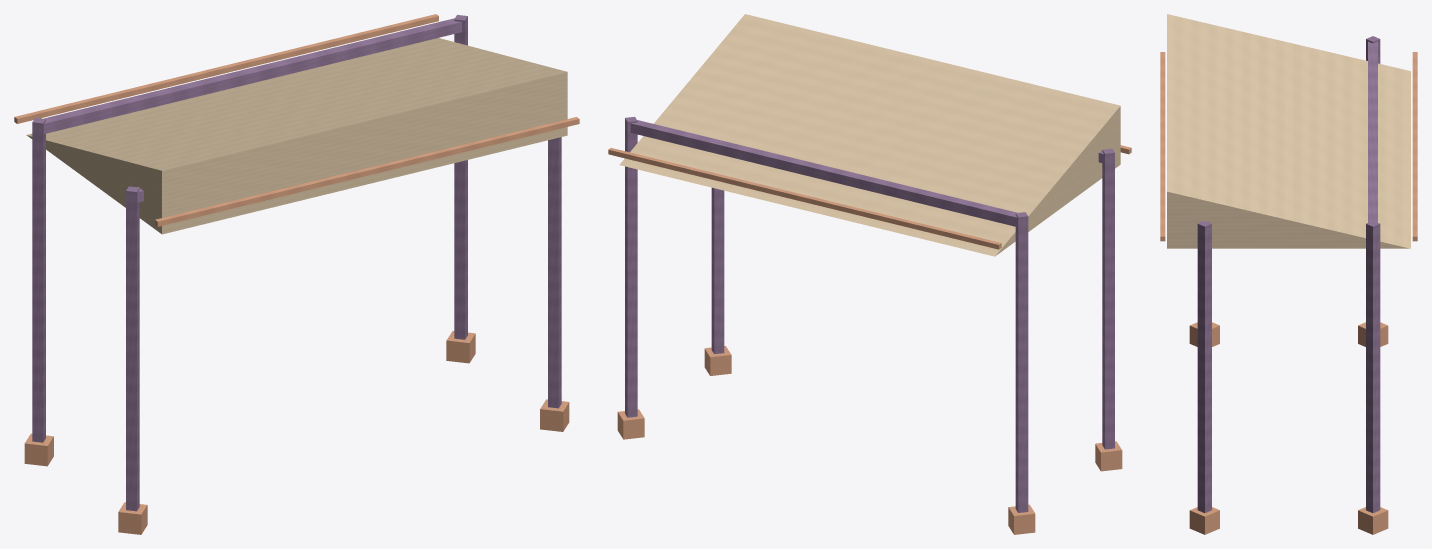
File: atlas100-s081-a08.glb
The picture shows the model from 3 angles, left to right: view 1: azimuth 30°, elevation 25°; view 2: azimuth 150°, elevation 25°; view 3: azimuth 270°, elevation 25°; orthographic projection. The views are drawn at different scales.
Parts seen in each view (by area): view 1: atlas100-s081-a08:part-010, atlas100-s081-a08:part-011, atlas100-s081-a08:part-014, atlas100-s081-a08:part-013, atlas100-s081-a08:part-012, atlas100-s081-a08:part-008, atlas100-s081-a08:part-000, atlas100-s081-a08:part-002, atlas100-s081-a08:part-006, atlas100-s081-a08:part-016, atlas100-s081-a08:part-015, atlas100-s081-a08:part-004 (+4 smaller); view 2: atlas100-s081-a08:part-010, atlas100-s081-a08:part-013, atlas100-s081-a08:part-012, atlas100-s081-a08:part-011, atlas100-s081-a08:part-014, atlas100-s081-a08:part-008, atlas100-s081-a08:part-000, atlas100-s081-a08:part-002, atlas100-s081-a08:part-004, atlas100-s081-a08:part-015, atlas100-s081-a08:part-006, atlas100-s081-a08:part-005 (+3 smaller); view 3: atlas100-s081-a08:part-014, atlas100-s081-a08:part-010, atlas100-s081-a08:part-013, atlas100-s081-a08:part-012, atlas100-s081-a08:part-011, atlas100-s081-a08:part-004, atlas100-s081-a08:part-006, atlas100-s081-a08:part-008, atlas100-s081-a08:part-015, atlas100-s081-a08:part-016, atlas100-s081-a08:part-005, atlas100-s081-a08:part-007 (+2 smaller).
Part boxes in pixels (x1=…): atlas100-s081-a08:part-010: x1=26, y1=117, x2=243, y2=234; atlas100-s081-a08:part-011: x1=114, y1=97, x2=324, y2=214; atlas100-s081-a08:part-014: x1=358, y1=38, x2=567, y2=154; atlas100-s081-a08:part-013: x1=276, y1=57, x2=486, y2=174; atlas100-s081-a08:part-012: x1=196, y1=77, x2=405, y2=194; atlas100-s081-a08:part-008: x1=44, y1=18, x2=461, y2=133; atlas100-s081-a08:part-000: x1=32, y1=117, x2=45, y2=442; atlas100-s081-a08:part-002: x1=126, y1=186, x2=139, y2=511; atlas100-s081-a08:part-006: x1=548, y1=137, x2=561, y2=408; atlas100-s081-a08:part-016: x1=155, y1=117, x2=579, y2=226; atlas100-s081-a08:part-015: x1=14, y1=14, x2=438, y2=123; atlas100-s081-a08:part-004: x1=454, y1=15, x2=467, y2=339; atlas100-s081-a08:part-010: x1=920, y1=87, x2=1120, y2=256; atlas100-s081-a08:part-013: x1=695, y1=32, x2=894, y2=201; atlas100-s081-a08:part-012: x1=770, y1=50, x2=969, y2=219; atlas100-s081-a08:part-011: x1=845, y1=69, x2=1045, y2=238; atlas100-s081-a08:part-014: x1=619, y1=14, x2=819, y2=183; atlas100-s081-a08:part-008: x1=630, y1=120, x2=1017, y2=226; atlas100-s081-a08:part-000: x1=1015, y1=212, x2=1028, y2=512; atlas100-s081-a08:part-002: x1=1102, y1=148, x2=1114, y2=449; atlas100-s081-a08:part-004: x1=625, y1=116, x2=637, y2=417; atlas100-s081-a08:part-015: x1=608, y1=148, x2=1001, y2=249; atlas100-s081-a08:part-006: x1=711, y1=187, x2=724, y2=354; atlas100-s081-a08:part-005: x1=617, y1=409, x2=644, y2=439; atlas100-s081-a08:part-014: x1=1167, y1=156, x2=1410, y2=248; atlas100-s081-a08:part-010: x1=1167, y1=14, x2=1410, y2=106; atlas100-s081-a08:part-013: x1=1167, y1=120, x2=1410, y2=213; atlas100-s081-a08:part-012: x1=1167, y1=85, x2=1410, y2=177; atlas100-s081-a08:part-011: x1=1167, y1=49, x2=1410, y2=141; atlas100-s081-a08:part-004: x1=1366, y1=221, x2=1380, y2=512; atlas100-s081-a08:part-006: x1=1197, y1=221, x2=1211, y2=512; atlas100-s081-a08:part-008: x1=1368, y1=41, x2=1377, y2=222; atlas100-s081-a08:part-015: x1=1412, y1=52, x2=1417, y2=241; atlas100-s081-a08:part-016: x1=1160, y1=52, x2=1165, y2=241; atlas100-s081-a08:part-005: x1=1358, y1=507, x2=1388, y2=534; atlas100-s081-a08:part-007: x1=1189, y1=507, x2=1219, y2=534.
Size of the model in its own units: 5.56 by 4.38 by 3.06.
Materials: 3 (3 with a texture image).
